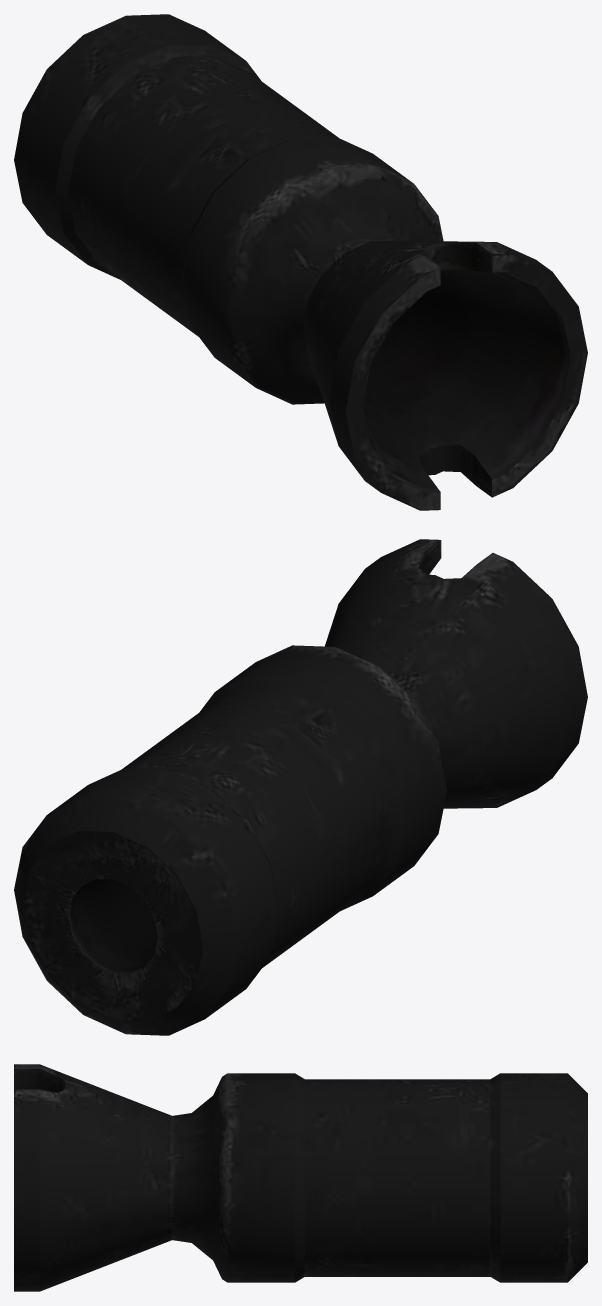
The model's file is muzzleboost.entity.glb.
The picture shows the model from 3 angles, top to bottom: view 1: azimuth 30°, elevation 25°; view 2: azimuth 150°, elevation 25°; view 3: azimuth 270°, elevation 25°; orthographic projection. The views are drawn at different scales.
Parts seen in each view (by area): view 1: muzzleboost_LOD0; view 2: muzzleboost_LOD0; view 3: muzzleboost_LOD0.
Part boxes in pixels (bbox=[...]): muzzleboost_LOD0: bbox=[14, 14, 587, 510]; muzzleboost_LOD0: bbox=[14, 539, 587, 1035]; muzzleboost_LOD0: bbox=[14, 1064, 587, 1291].
Size of the model in its own units: 0.0488 by 0.0467 by 0.1231.
Materials: 1 (1 with a texture image).
